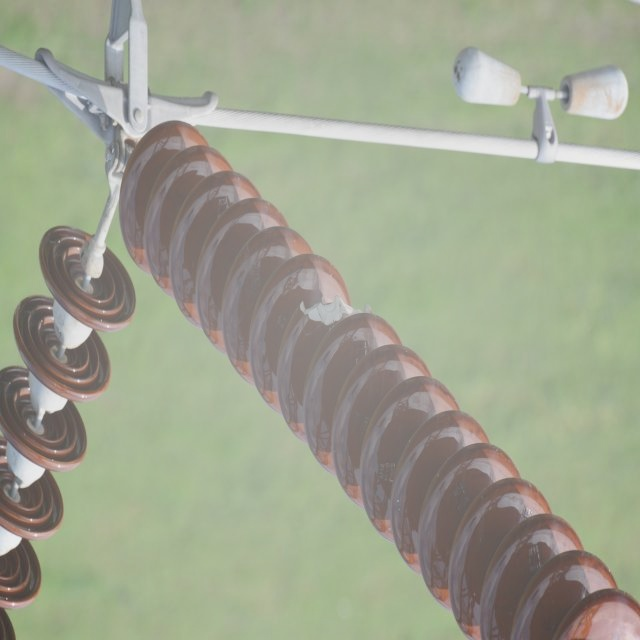broken: (297, 292, 377, 324)
insulator: (121, 121, 638, 640), (2, 226, 135, 639)
